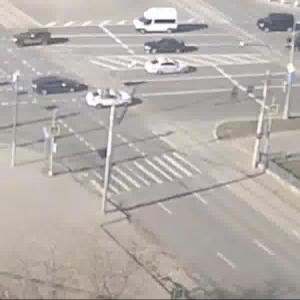car: (134, 7, 180, 35), (32, 72, 81, 94), (146, 57, 190, 80), (88, 90, 136, 110), (14, 28, 57, 50), (260, 12, 298, 36), (144, 37, 185, 52)
